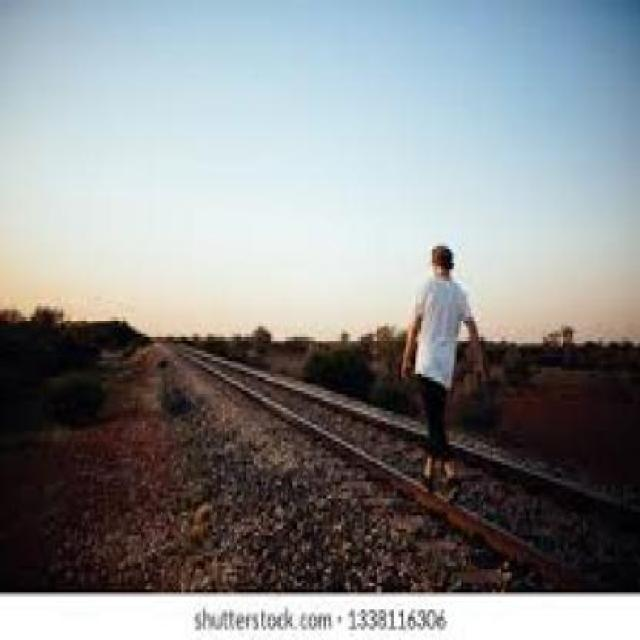danger: (408, 250, 476, 486)
rail: (156, 326, 632, 591)
